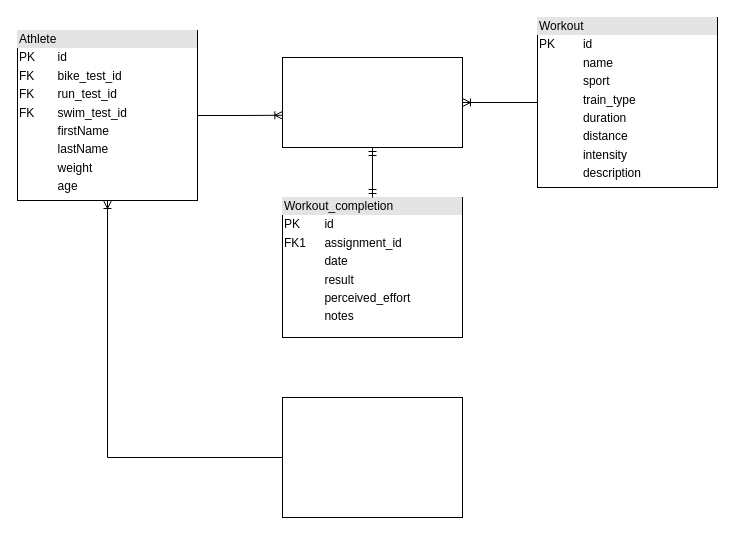
Image size: 735x535. Some labels were removed from this diagram. The centre of each missing label's shape, as x and y in pixels:
"Race PK id FK athlete_id date sport distance" belongs at [372,457].
"Workout_assignment PK id FK1 athlete_id FK2 workout_id planned_date" belongs at [372,102].
